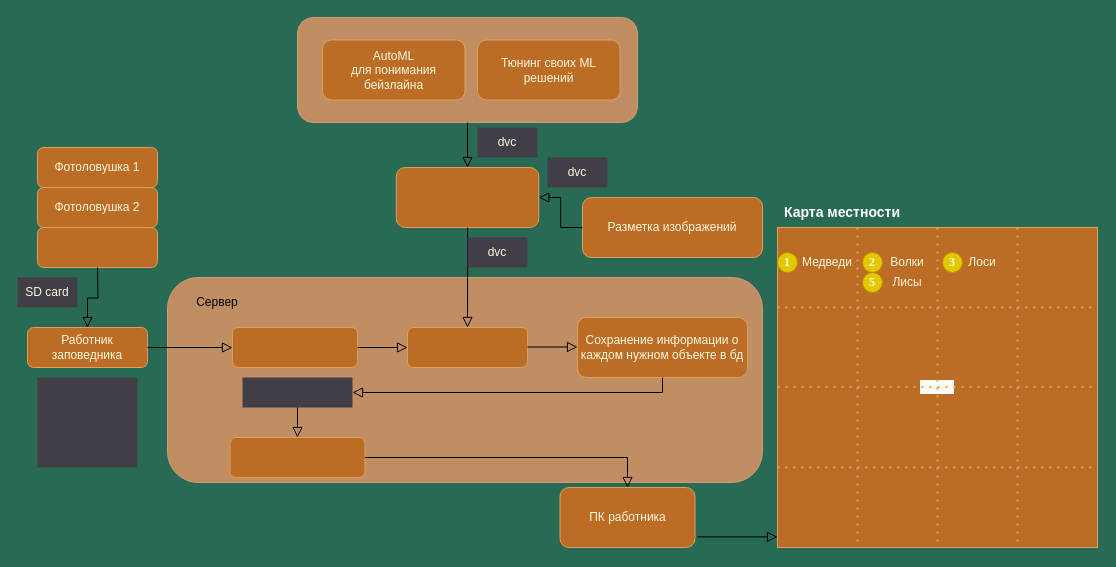
This 1116x567 diagram has some shape labels left out. The shapes that lost their labels are listed below. From the top down, each one's centre as x and y in pixels, then its label:
At [467,197]: "GoogleDrive с весами и тренировочными данными".
At [97,247]: "Фотоловушка 3".
At [295,347]: "YOLOv8".
At [467,347]: "Классификация каждого объекта".
At [297,392]: "DB(PostgreSQL?)".
At [87,422]: "Ручная загрузка фотографий через интерфейс программы на ПК".
At [297,457]: "Отправка работнику статистики по запросу".
